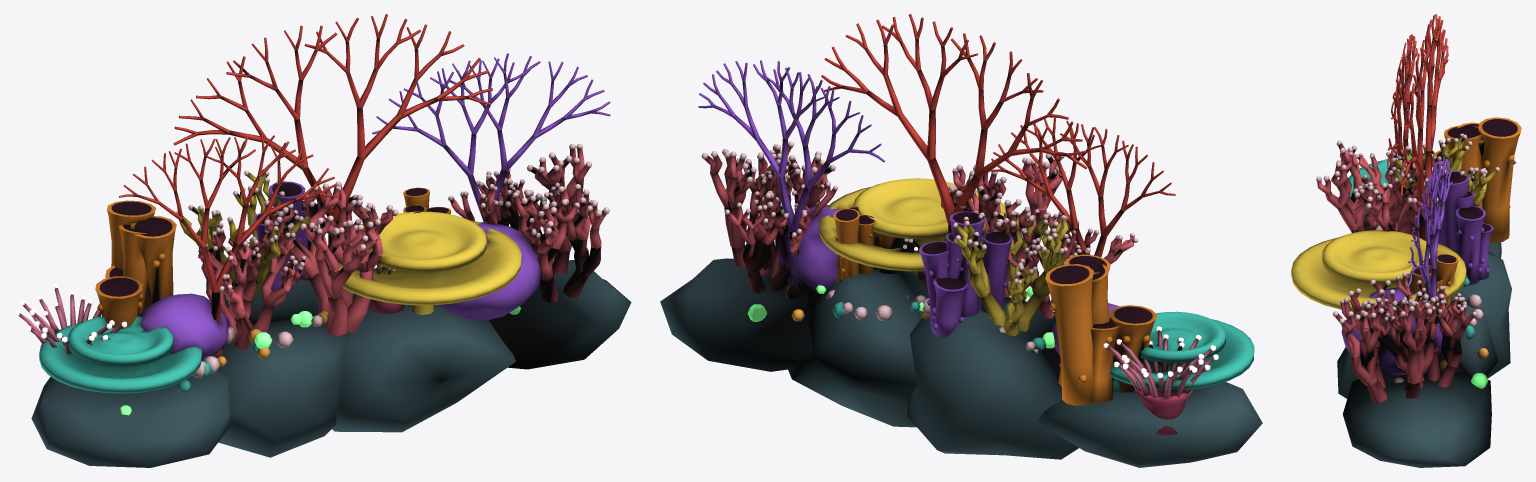
The model's file is reef_large.glb.
3 views of the same model, side by side, from view 1: azimuth 30°, elevation 25°; view 2: azimuth 150°, elevation 25°; view 3: azimuth 270°, elevation 25° (orthographic). The views are drawn at different scales.
Parts seen in each view (by area): view 1: reef_large_mesh; view 2: reef_large_mesh; view 3: reef_large_mesh.
Part boxes in pixels (x1,y1,x2,y2): reef_large_mesh: (14,14,631,467); reef_large_mesh: (660,14,1262,467); reef_large_mesh: (1291,14,1521,467).
Bounding box in the file's own units: 5.28 × 3.57 × 2.05.
